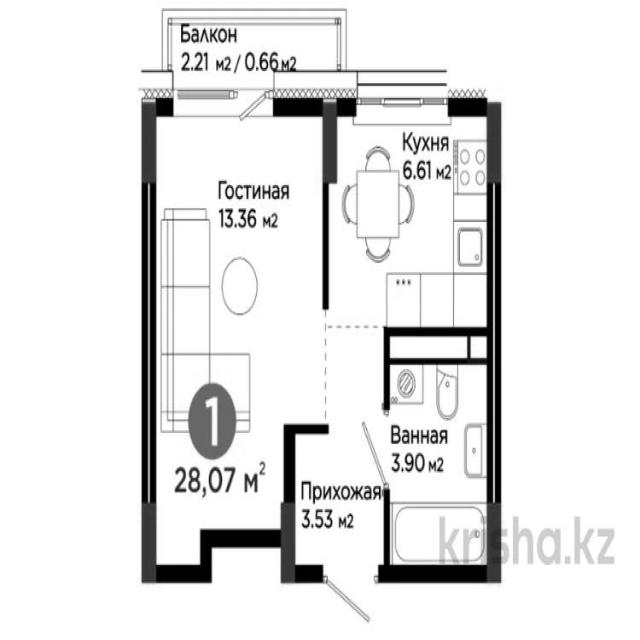balcony: (166, 14, 341, 102)
bathroom: (386, 329, 496, 571)
hallway: (285, 425, 387, 574)
kitchen: (326, 105, 500, 327)
living_room: (147, 102, 329, 434)
